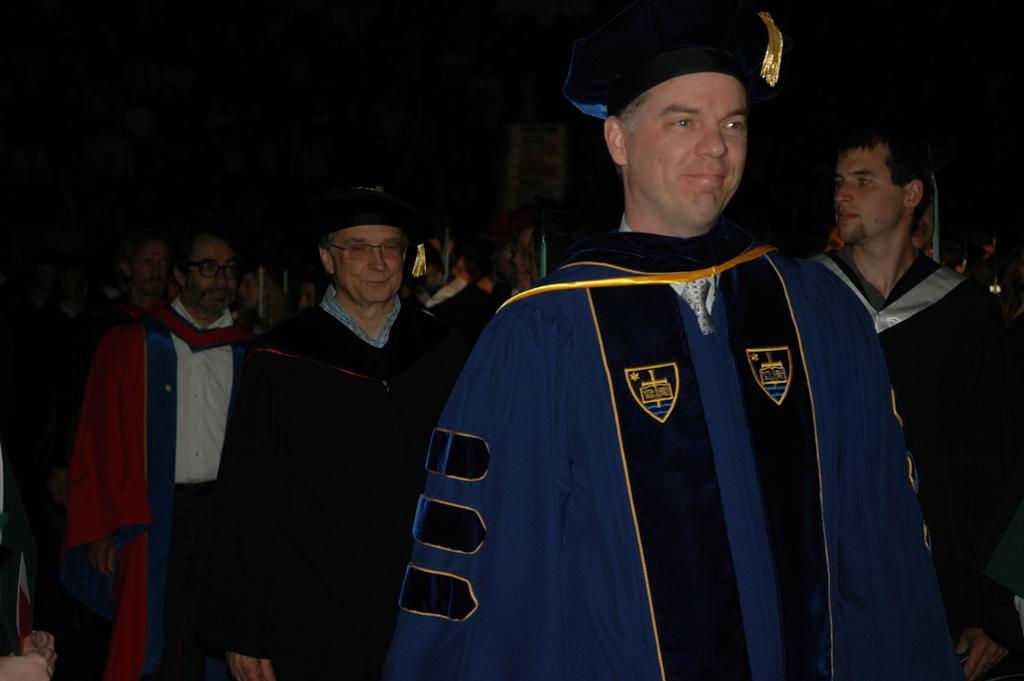Hat: (562, 0, 786, 122), (306, 177, 416, 246)
